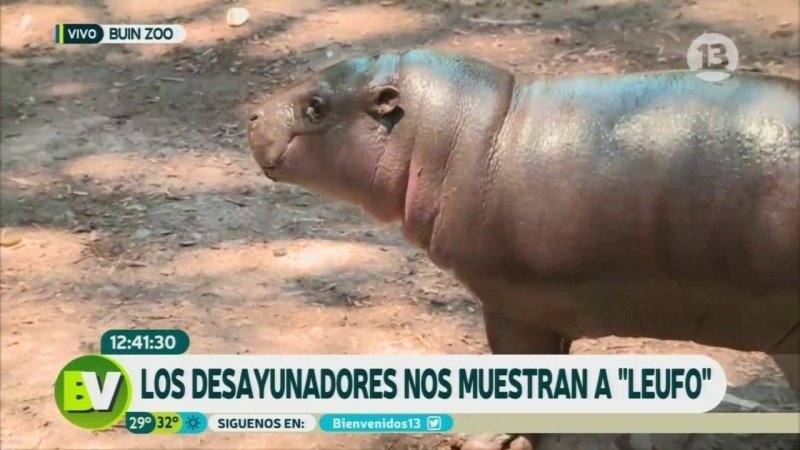hipopotamo: (244, 33, 800, 354)
